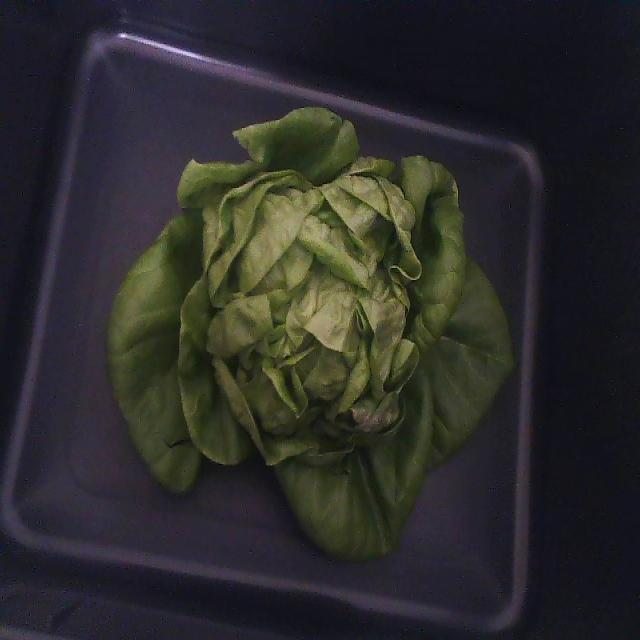lettuce: (109, 107, 512, 559)
